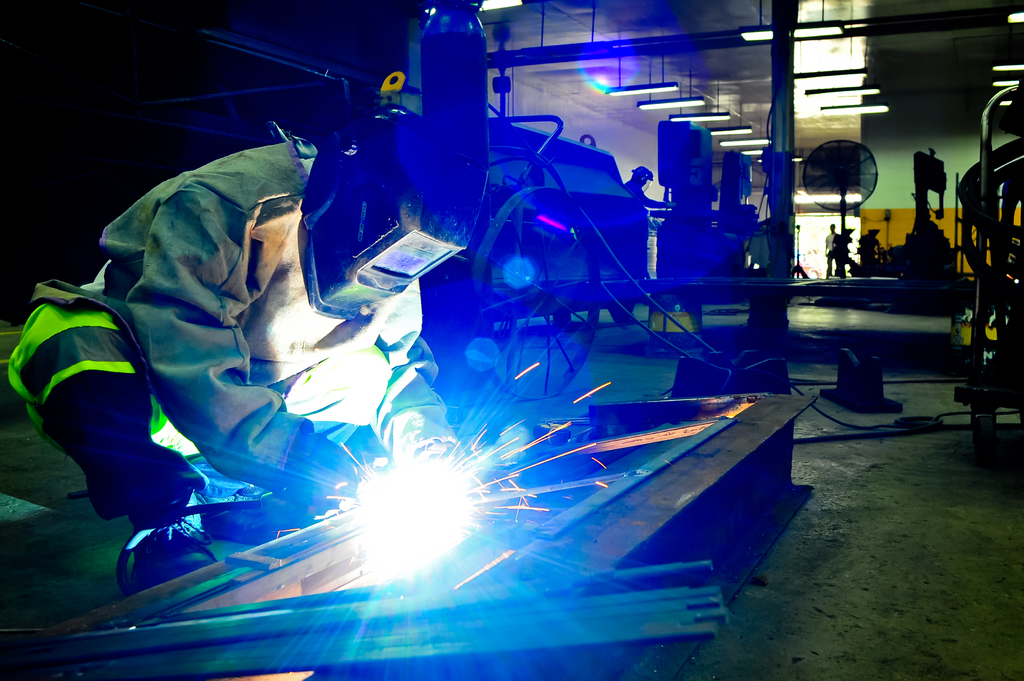Person: (7, 103, 488, 595), (824, 223, 839, 278)
